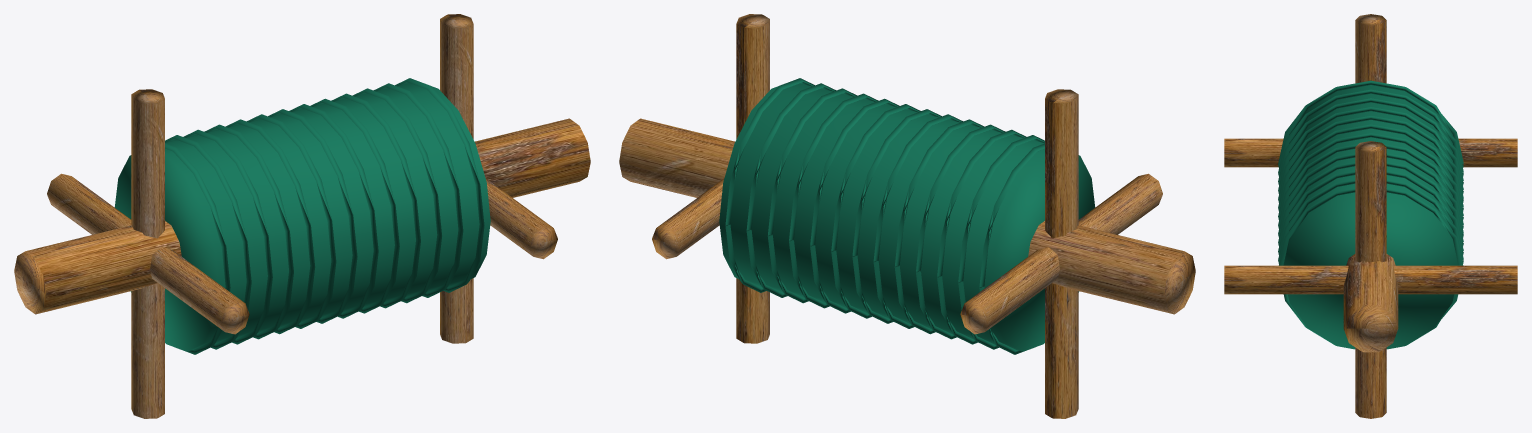
File: prop_natai_spool.glb
3 renders of one model, left to right at view 1: azimuth 30°, elevation 25°; view 2: azimuth 150°, elevation 25°; view 3: azimuth 270°, elevation 25°, orthographic. The views are drawn at different scales.
Visible parts, largest first — view 1: prop_natai_spool; view 2: prop_natai_spool; view 3: prop_natai_spool.
Boxes of the visible parts, box(x1,y1,x2,y2) form: prop_natai_spool: box(14, 14, 590, 418); prop_natai_spool: box(619, 14, 1195, 418); prop_natai_spool: box(1224, 14, 1517, 418).
Size of the model in its own units: 0.3 by 0.166 by 0.166.
Materials: 2 (1 with a texture image).
